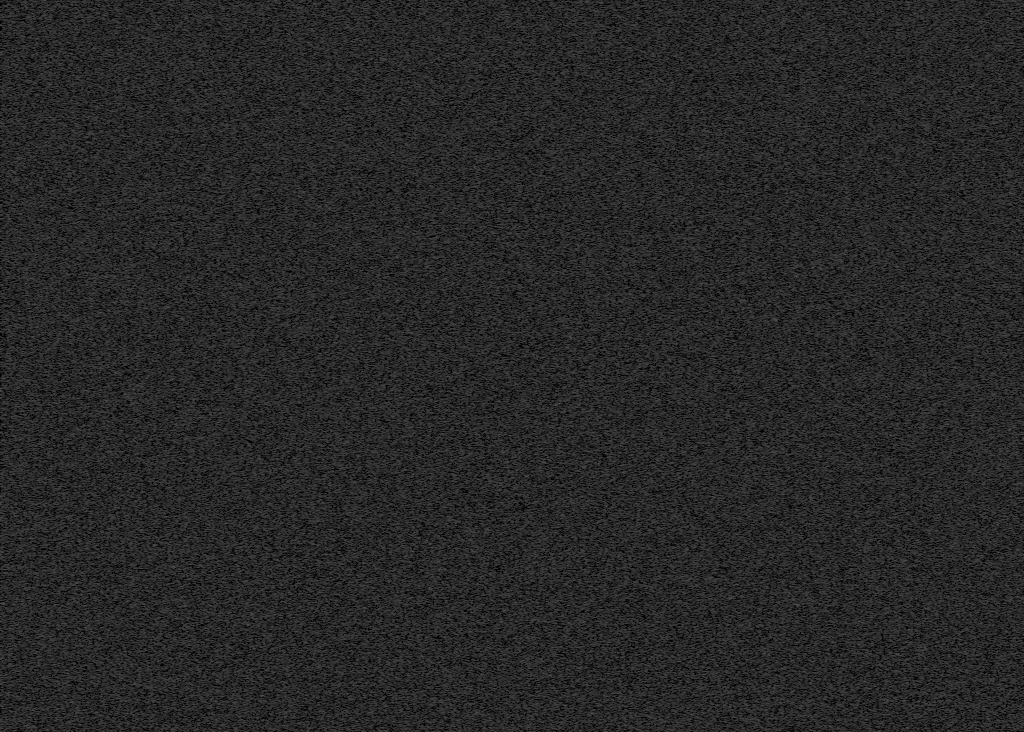wv_lsb: (739, 48, 744, 515), (571, 4, 577, 273), (571, 354, 577, 594), (572, 595, 577, 721), (739, 531, 744, 625), (887, 542, 892, 598), (887, 225, 892, 280), (887, 288, 891, 350), (739, 3, 744, 47), (572, 312, 577, 353), (571, 274, 577, 306), (887, 648, 892, 684), (887, 110, 891, 155), (887, 414, 891, 457), (887, 699, 892, 728), (887, 506, 891, 541), (887, 76, 891, 109), (887, 616, 891, 647), (887, 474, 891, 505), (740, 689, 744, 720), (740, 651, 744, 681), (887, 19, 891, 47), (740, 627, 744, 650), (887, 48, 891, 67), (887, 351, 892, 365), (739, 516, 744, 530), (887, 381, 891, 398), (887, 178, 891, 195), (887, 162, 891, 177), (887, 399, 891, 413), (887, 685, 891, 698), (887, 5, 891, 18), (572, 722, 577, 732), (887, 458, 891, 470), (887, 366, 891, 377), (887, 199, 891, 210), (740, 721, 744, 732), (887, 606, 891, 615), (887, 211, 891, 220), (887, 599, 892, 605), (887, 68, 891, 75), (887, 281, 891, 287), (740, 682, 744, 688), (572, 307, 577, 311), (887, 221, 891, 224), (887, 158, 891, 161), (887, 729, 891, 732)
wv_wbfm: (594, 0, 634, 732), (62, 0, 102, 611), (65, 636, 101, 732)
